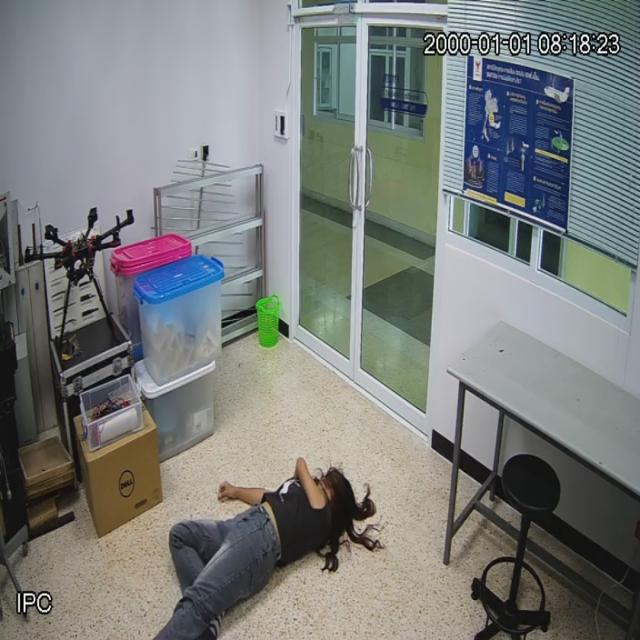fall: (158, 453, 356, 640)
